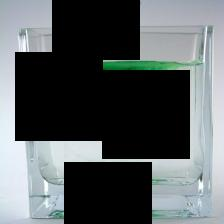green: (34, 61, 185, 137), (90, 0, 140, 14), (78, 177, 155, 184)
